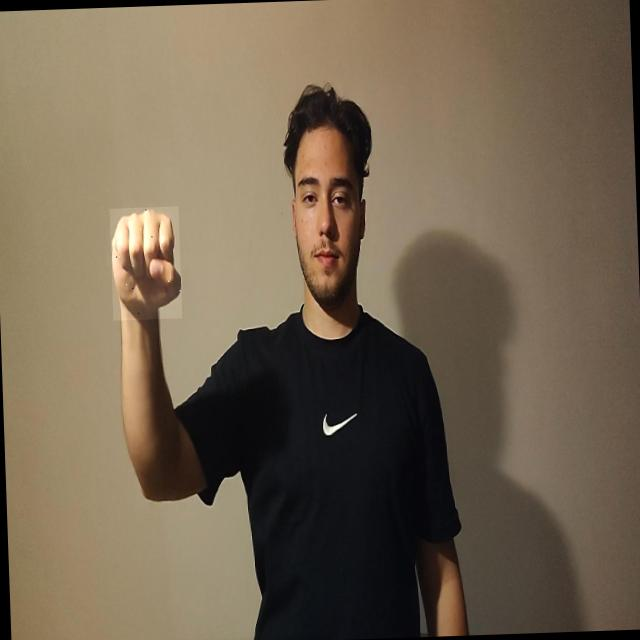yes: (109, 206, 182, 320)
